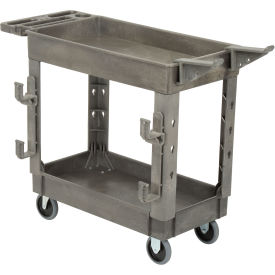Carts: (1, 10, 270, 265)
